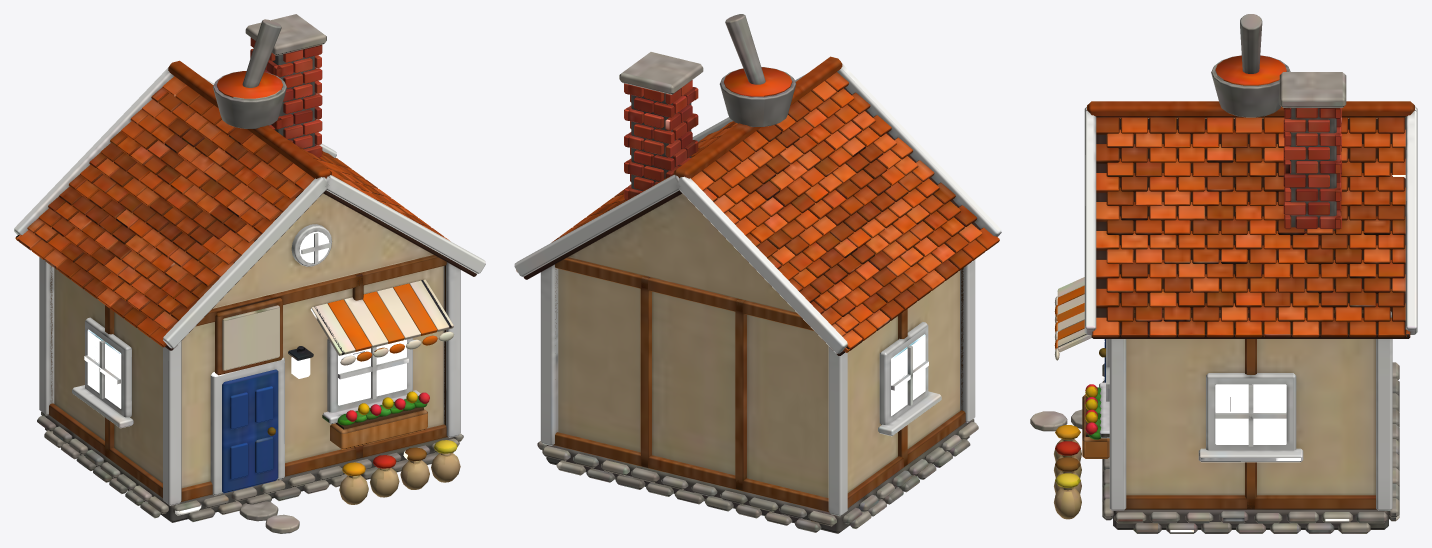
Rendered from spice_mill.glb.
3 views of the same model, side by side, from view 1: azimuth 30°, elevation 25°; view 2: azimuth 150°, elevation 25°; view 3: azimuth 270°, elevation 25° (orthographic). The views are drawn at different scales.
Parts seen in each view (by area): view 1: spice_mill; view 2: spice_mill; view 3: spice_mill.
Boxes of the visible parts, <box> form: spice_mill: <box>14,14,485,533</box>; spice_mill: <box>514,14,1001,533</box>; spice_mill: <box>1030,14,1417,533</box>.
Size of the model in its own units: 1.69 by 2.11 by 1.63.
Materials: 1 (1 with a texture image).
